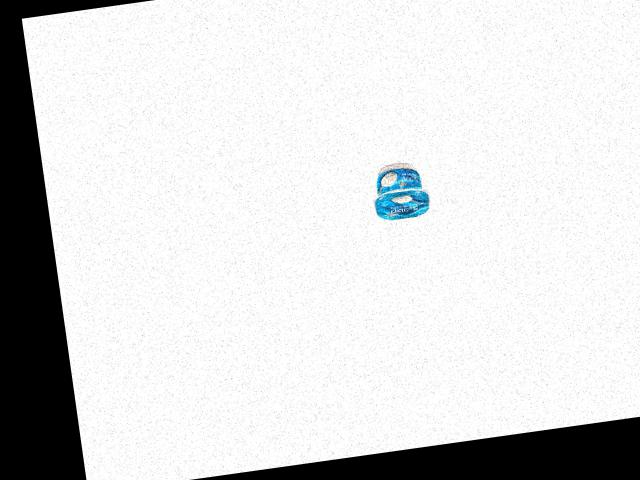cotage: (365, 159, 435, 224)
